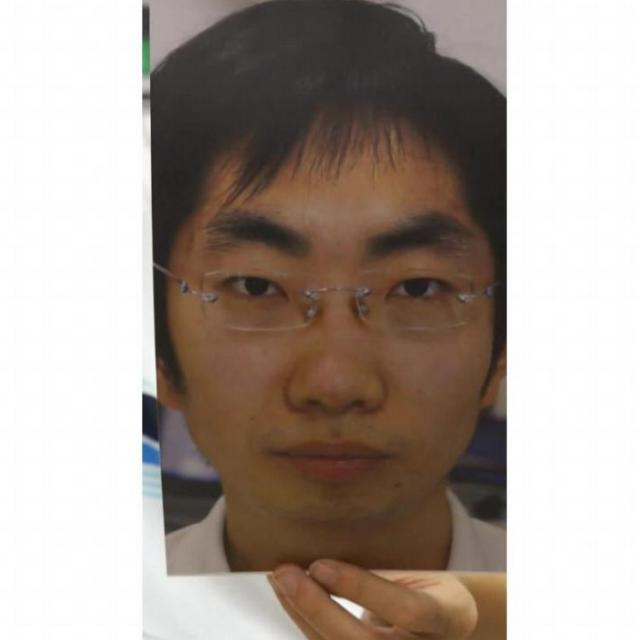photo: (144, 0, 505, 578)
